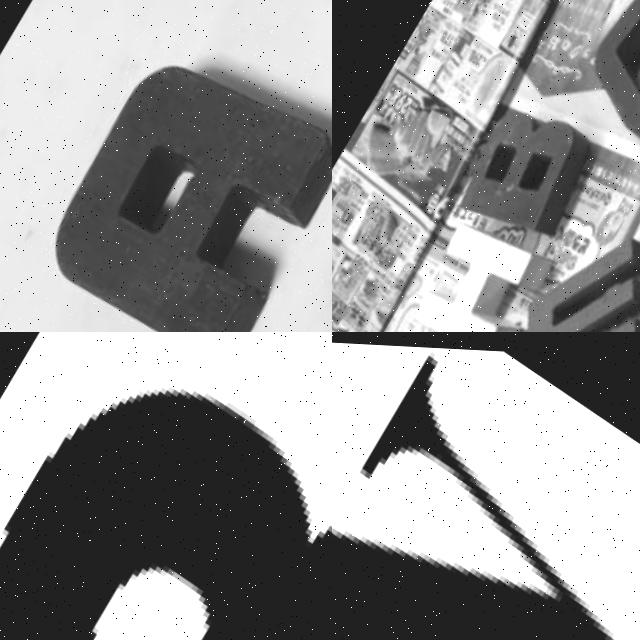3: (0, 332, 332, 640)
A: (3, 10, 332, 332)
B: (433, 63, 623, 258)
H: (394, 203, 557, 332)
M: (472, 188, 640, 332)
N: (332, 332, 640, 640)
O: (562, 0, 640, 157)
